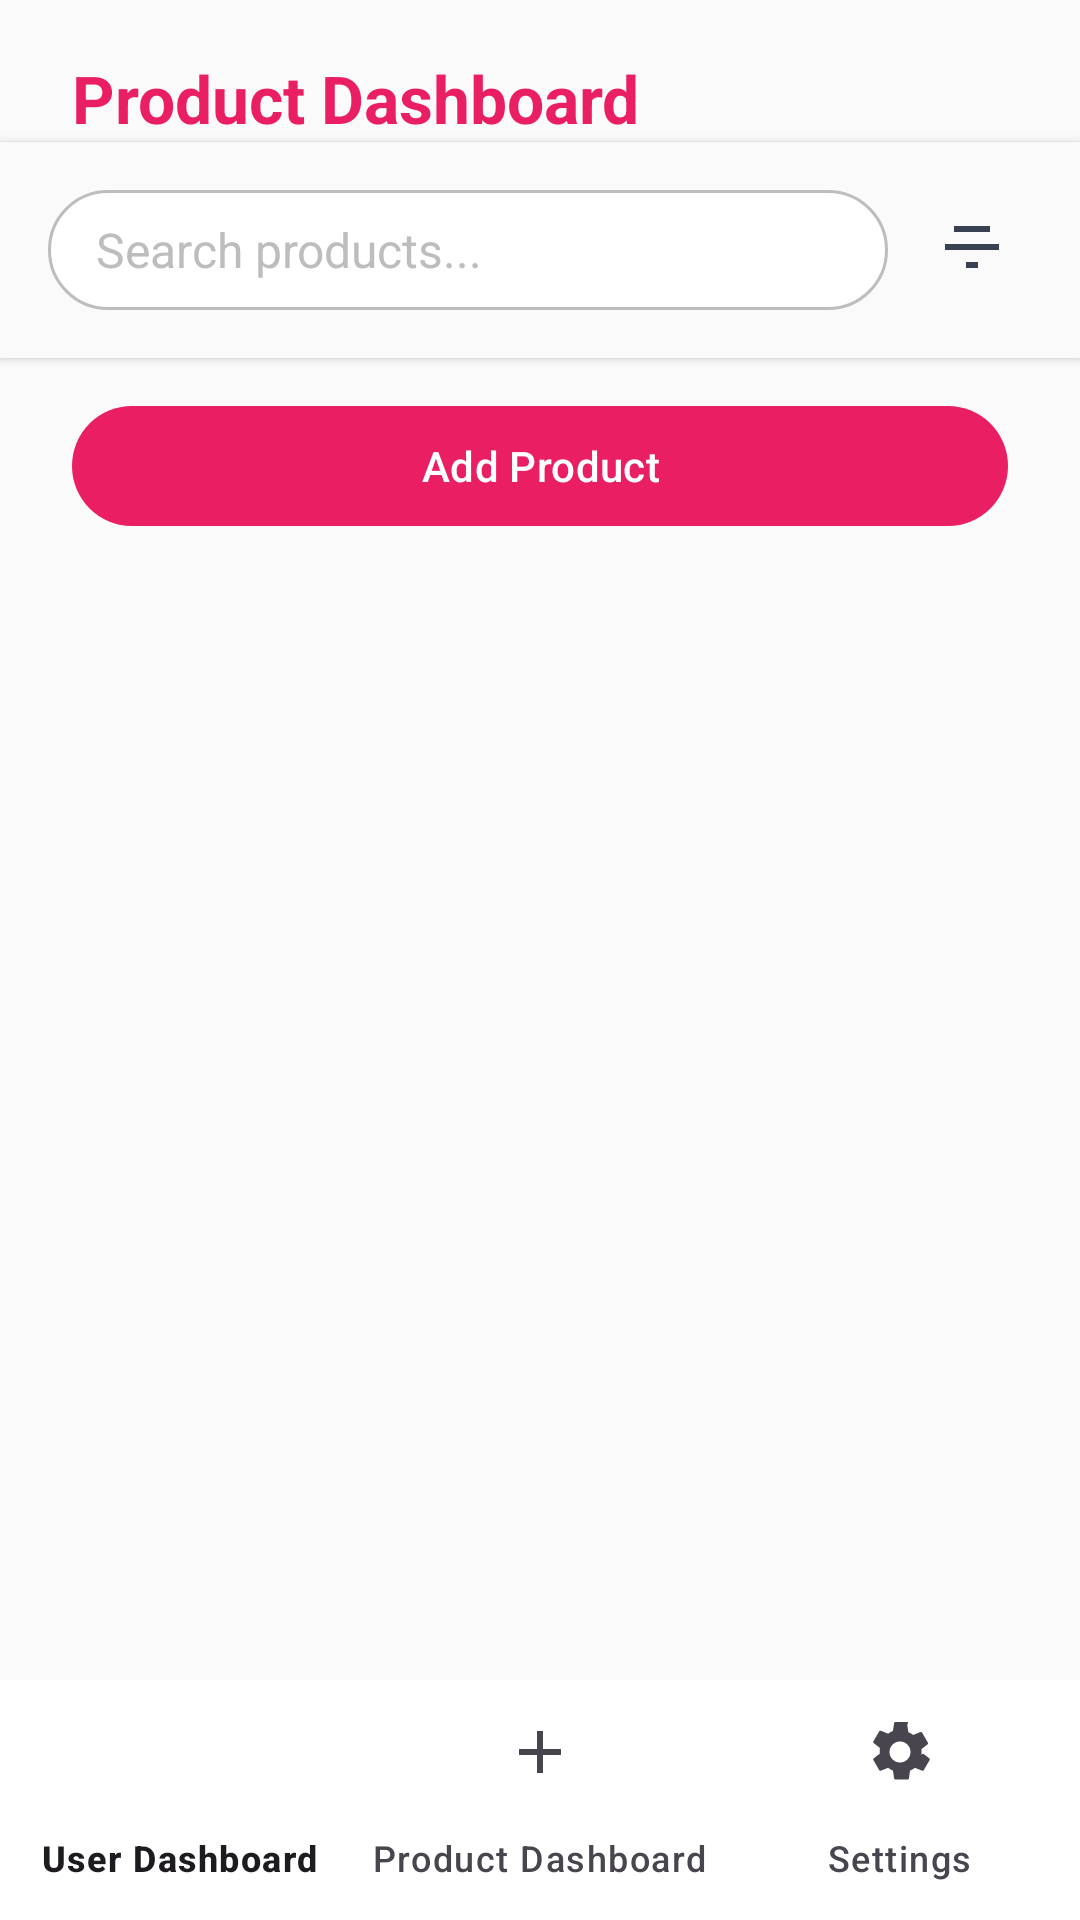

Named icons in this screenshot (1080px x 1920px) and their bounding boxes, rect(x1, y1, x2, y2):
Filter: rect(945, 226, 999, 268)
